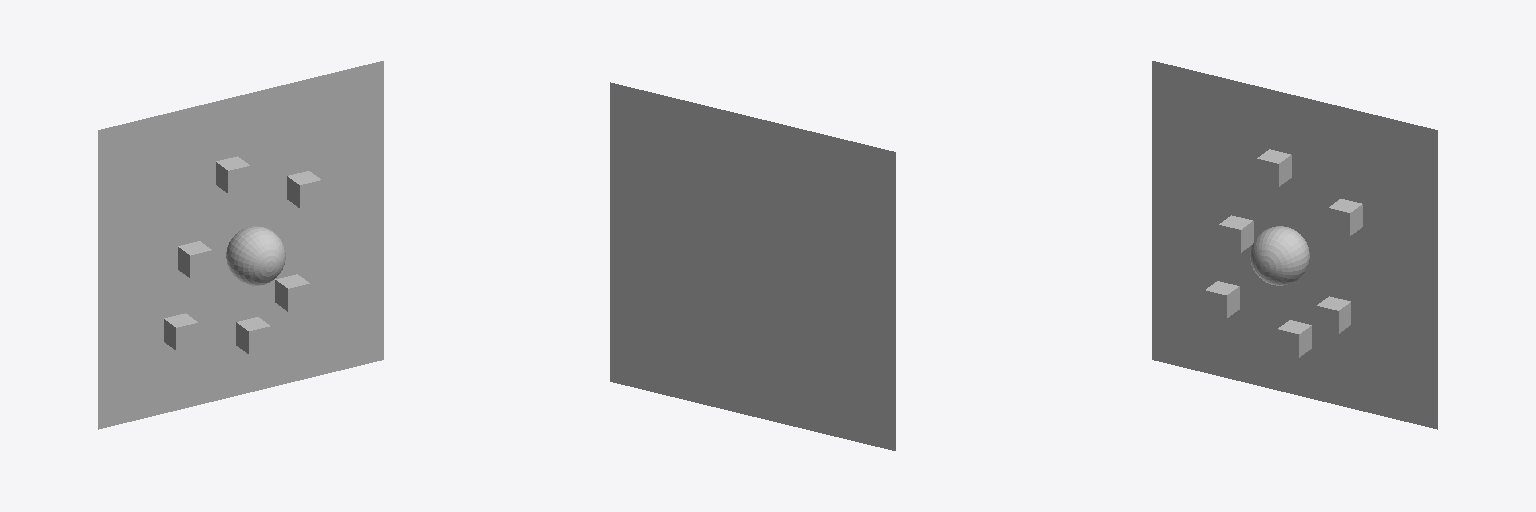
File: emissive.obj
3 renders of one model, left to right at view 1: azimuth 30°, elevation 25°; view 2: azimuth 150°, elevation 25°; view 3: azimuth 330°, elevation 25°, orthographic.
Parts seen in each view (by area): view 1: Plane, Sphere, Cube, Cube.001, Cube.002, Cube.004, Cube.005, Cube.003; view 2: Plane; view 3: Plane, Sphere, Cube.004, Cube.001, Cube, Cube.002, Cube.003, Cube.005.
Boxes of the visible parts, <box> form: Plane: <box>98,61,383,429</box>; Sphere: <box>226,226,285,285</box>; Cube: <box>275,274,309,311</box>; Cube.001: <box>236,317,270,354</box>; Cube.002: <box>164,313,198,350</box>; Cube.004: <box>216,156,250,193</box>; Cube.005: <box>287,171,321,207</box>; Cube.003: <box>178,241,211,278</box>; Plane: <box>610,82,895,450</box>; Plane: <box>1152,61,1437,429</box>; Sphere: <box>1250,226,1309,285</box>; Cube.004: <box>1257,149,1291,186</box>; Cube.001: <box>1277,320,1311,357</box>; Cube: <box>1316,296,1350,333</box>; Cube.002: <box>1205,281,1239,318</box>; Cube.003: <box>1219,215,1253,252</box>; Cube.005: <box>1328,199,1362,235</box>.
Size of the model in its own units: 11.06 by 11.06 by 2.